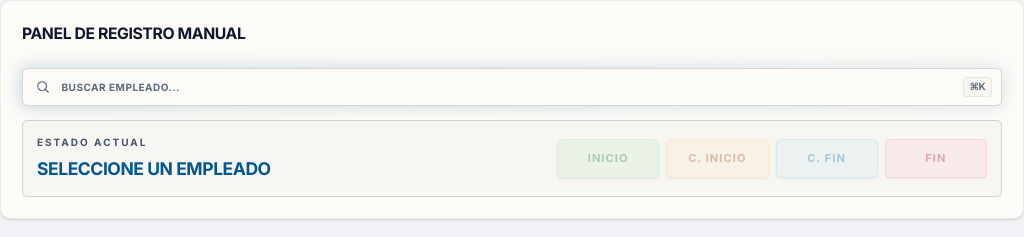
Test: ClockingPanel Component › should show results when typing in search input
Type "Juan" into the field with placeholder "Buscar empleado..." at {"x": 512, "y": 87}, box [22, 68, 1002, 106]
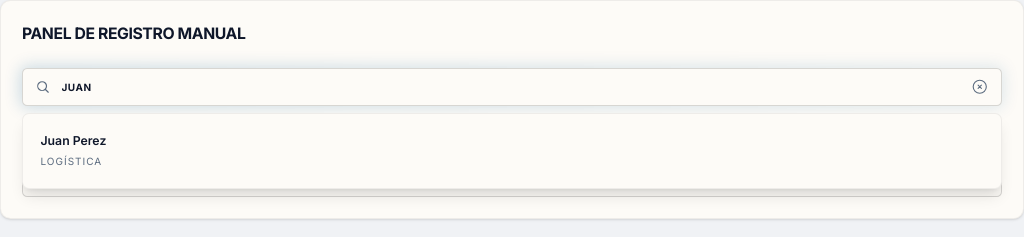
Result: the text "Juan Perez" is shown at [40, 132, 106, 149]
Result: the text "Logística" is shown at [40, 155, 102, 167]
